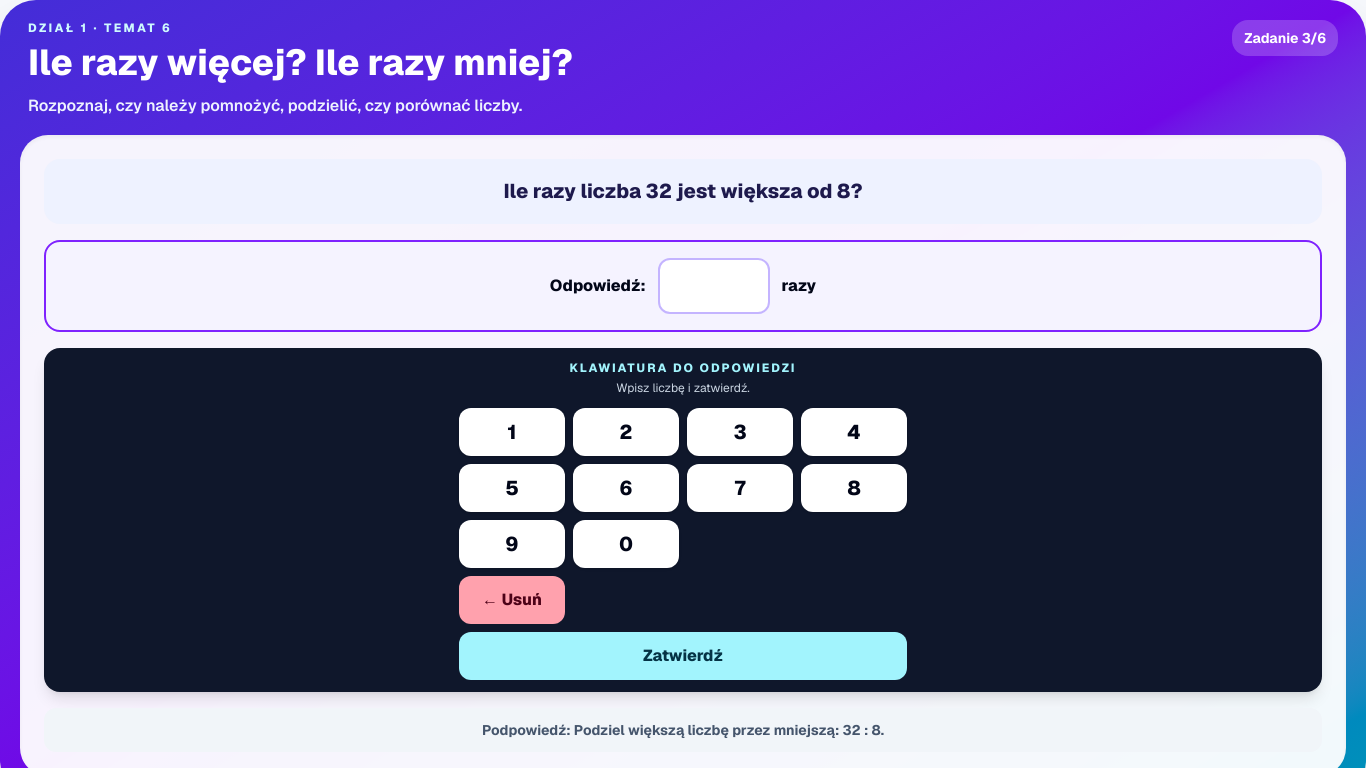
Grade4TimesMoreLessLessonLab › podaje wspierający komunikat po niepoprawnej odpowiedzi
What coordinates should you click on to do the following:
click the button "3"
I would click on:
 (740, 432)
Its box is [687,408,793,456].
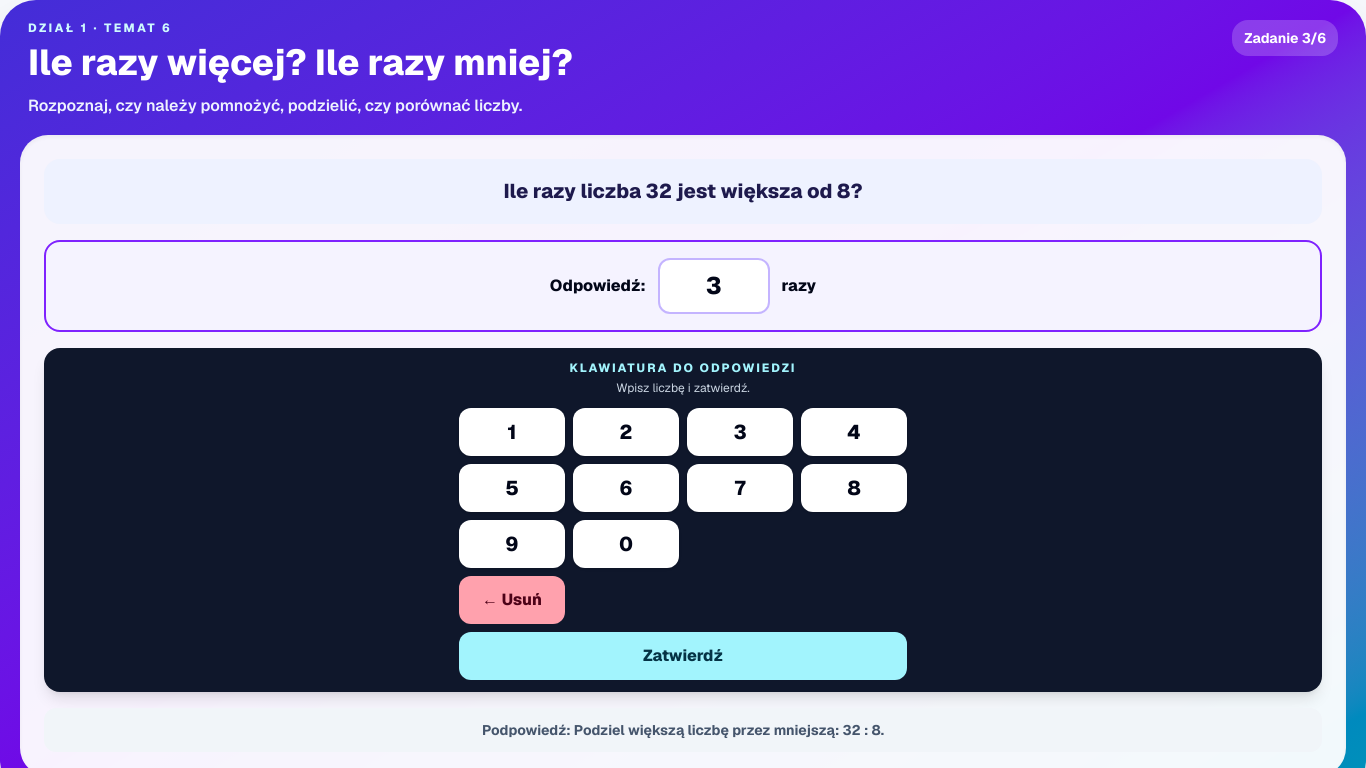
What coordinates should you click on to do the following:
click the button "Zatwierdź"
I would click on:
 (683, 656)
Its box is [459,632,907,680].
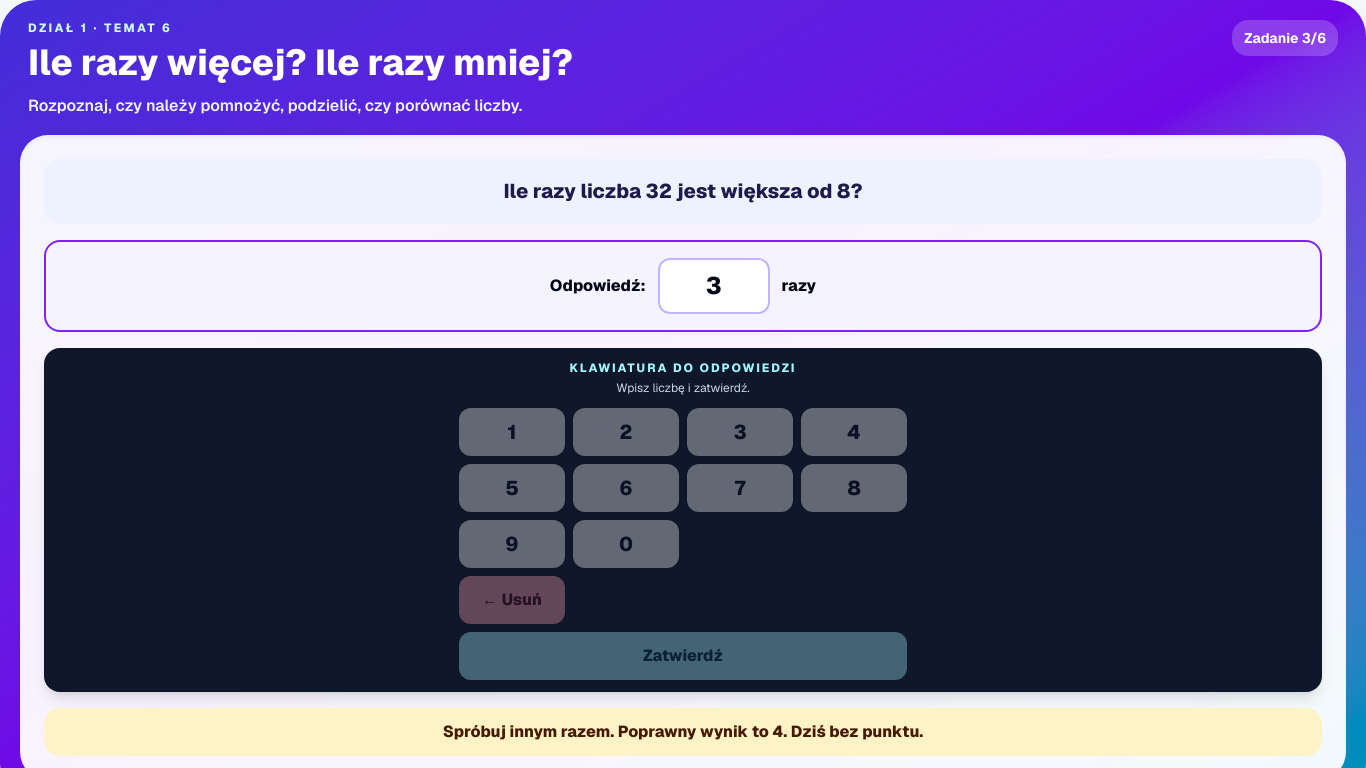
expect the message reads "Spróbuj innym razem. Poprawny wynik to 4. Dziś bez punktu.": met, box [44,708,1322,756]
